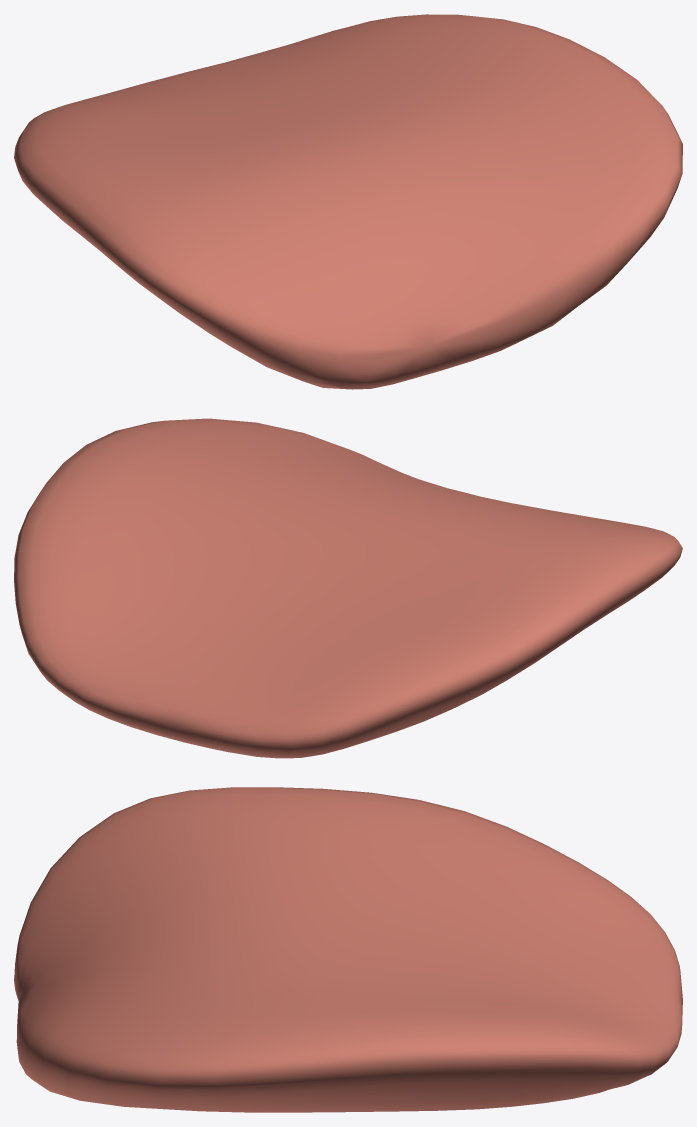
3 views of the same model, one above another, from view 1: azimuth 30°, elevation 25°; view 2: azimuth 150°, elevation 25°; view 3: azimuth 270°, elevation 25° (orthographic). The views are drawn at different scales.
Parts seen in each view (by area): view 1: 左侧髌下皮下囊; view 2: 左侧髌下皮下囊; view 3: 左侧髌下皮下囊.
Part boxes in pixels (x1,y1,x2,y2): 左侧髌下皮下囊: (14, 14, 682, 389); 左侧髌下皮下囊: (14, 418, 682, 758); 左侧髌下皮下囊: (14, 787, 682, 1112).
Size of the model in its own units: 0.0348 by 0.00954 by 0.0341.
